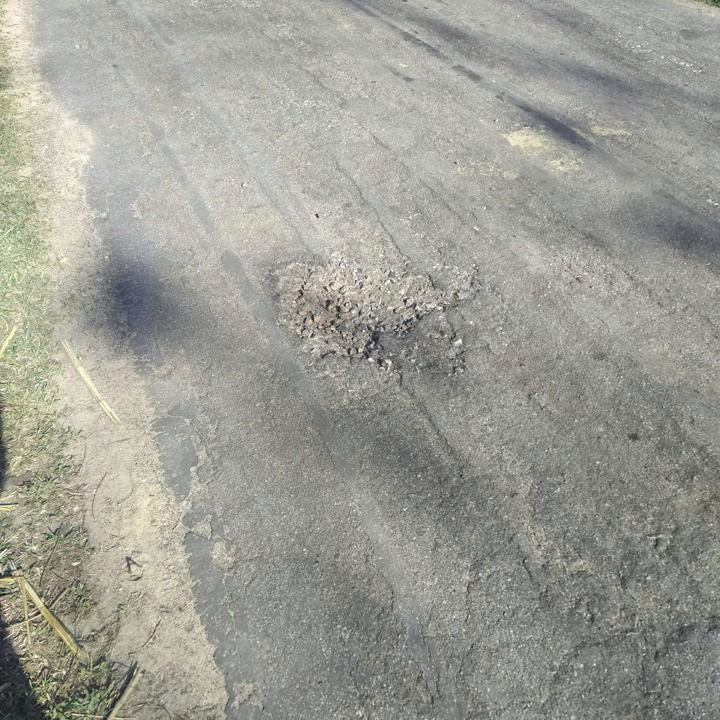pothole: (261, 250, 476, 364)
